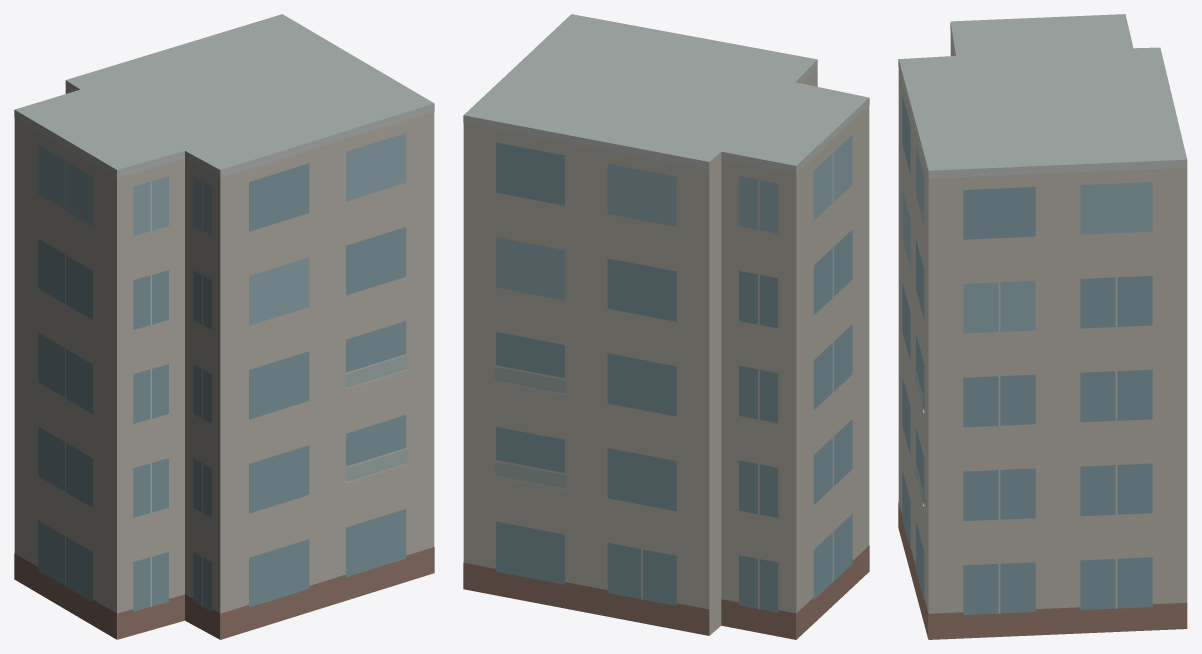
Rendered from survey-upis-33006208.glb.
3 views of the same model, side by side, from view 1: azimuth 30°, elevation 25°; view 2: azimuth 150°, elevation 25°; view 3: azimuth 270°, elevation 25° (orthographic).
Parts seen in each view (by area): view 1: survey-upis-33006208.tmp; view 2: survey-upis-33006208.tmp; view 3: survey-upis-33006208.tmp.
Boxes of the visible parts, box(x1,y1,x2,y2) form: survey-upis-33006208.tmp: box(14, 14, 434, 639); survey-upis-33006208.tmp: box(463, 14, 869, 639); survey-upis-33006208.tmp: box(898, 14, 1187, 639).
Bounding box in the file's own units: 10.47 × 14.6 × 8.15.
